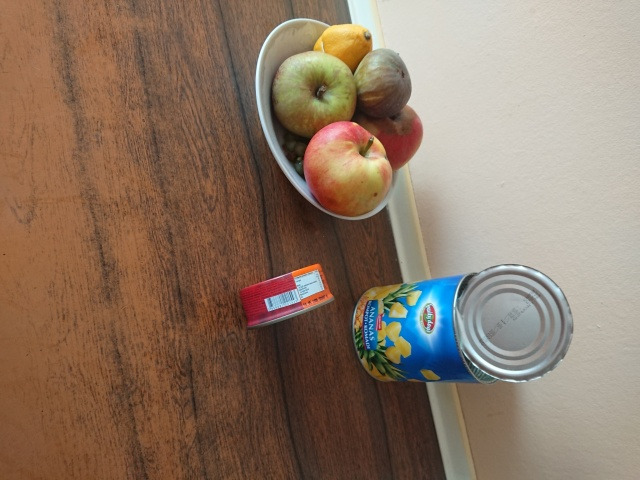Gavrilovic Pork Liver Pate 100g: (238, 261, 337, 331)
